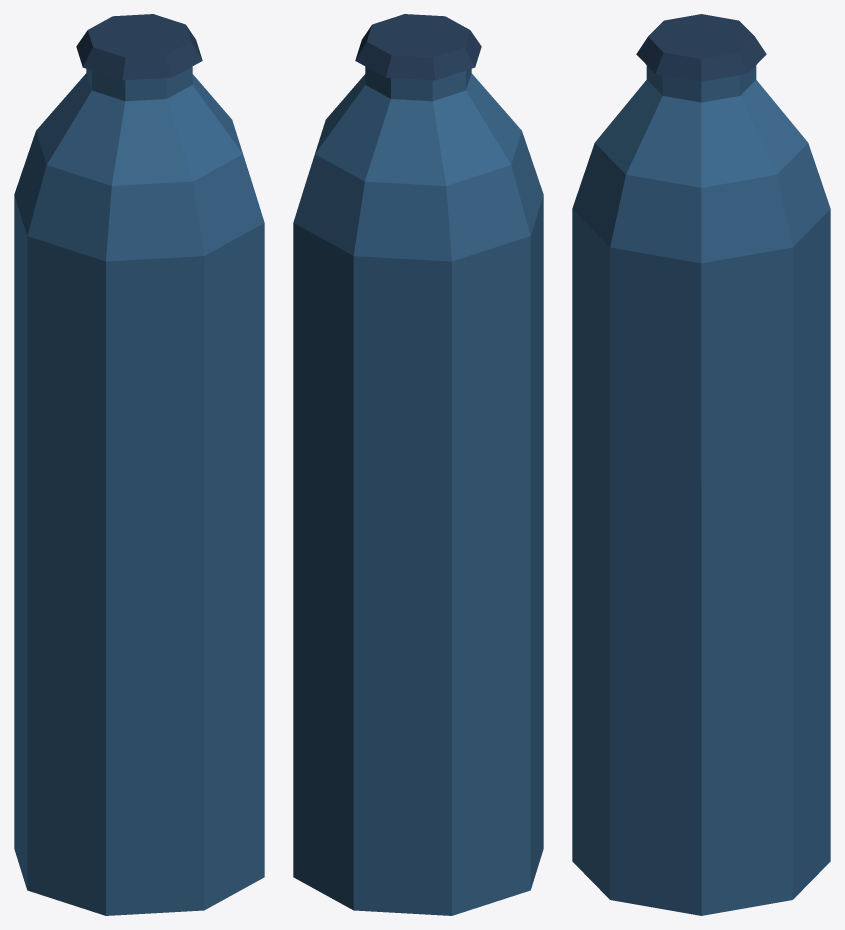
Rendered from SM_bottle_01.fbx.
The picture shows the model from 3 angles, left to right: view 1: azimuth 30°, elevation 25°; view 2: azimuth 150°, elevation 25°; view 3: azimuth 270°, elevation 25°; orthographic projection.
Visible parts, largest first — view 1: Cylinder033; view 2: Cylinder033; view 3: Cylinder033.
Boxes of the visible parts, x1,y1,x2,y2 form: Cylinder033: (14, 14, 264, 915); Cylinder033: (293, 14, 543, 915); Cylinder033: (572, 14, 830, 915).
Bounding box in the file's own units: 5.06 × 5.06 × 17.82.
